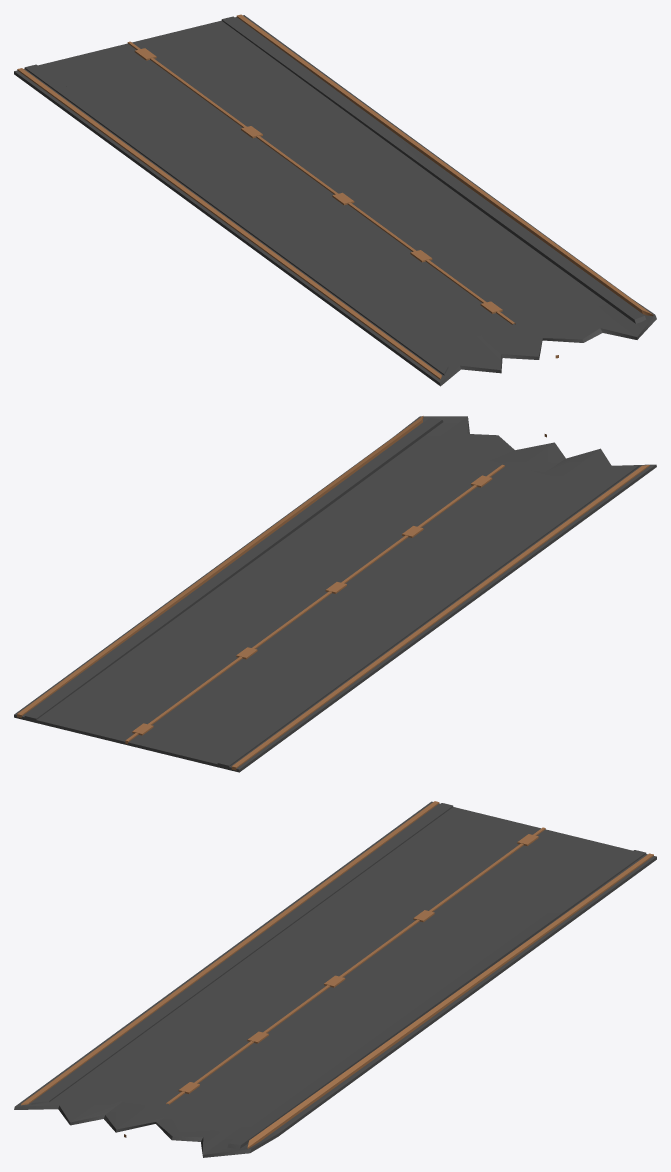
Rendered from Road damaged.fbx.
3 views of the same model, one above another, from view 1: azimuth 30°, elevation 25°; view 2: azimuth 150°, elevation 25°; view 3: azimuth 330°, elevation 25° (orthographic). The views are drawn at different scales.
Parts seen in each view (by area): view 1: Road; view 2: Road; view 3: Road.
Part boxes in pixels (<box>): Road: <box>14,14,656,386</box>; Road: <box>14,416,656,772</box>; Road: <box>14,801,656,1157</box>.
Bounding box in the file's own units: 805 × 31.76 × 2592.
